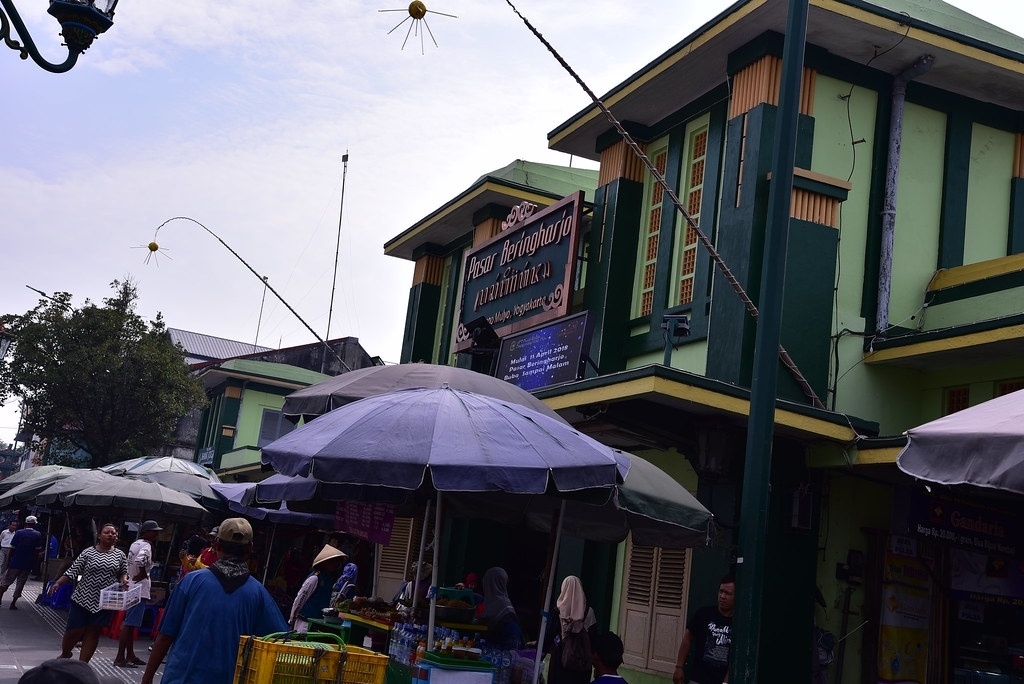gerobak: (267, 384, 638, 519), (283, 362, 565, 421), (338, 504, 432, 653), (385, 610, 528, 683)
